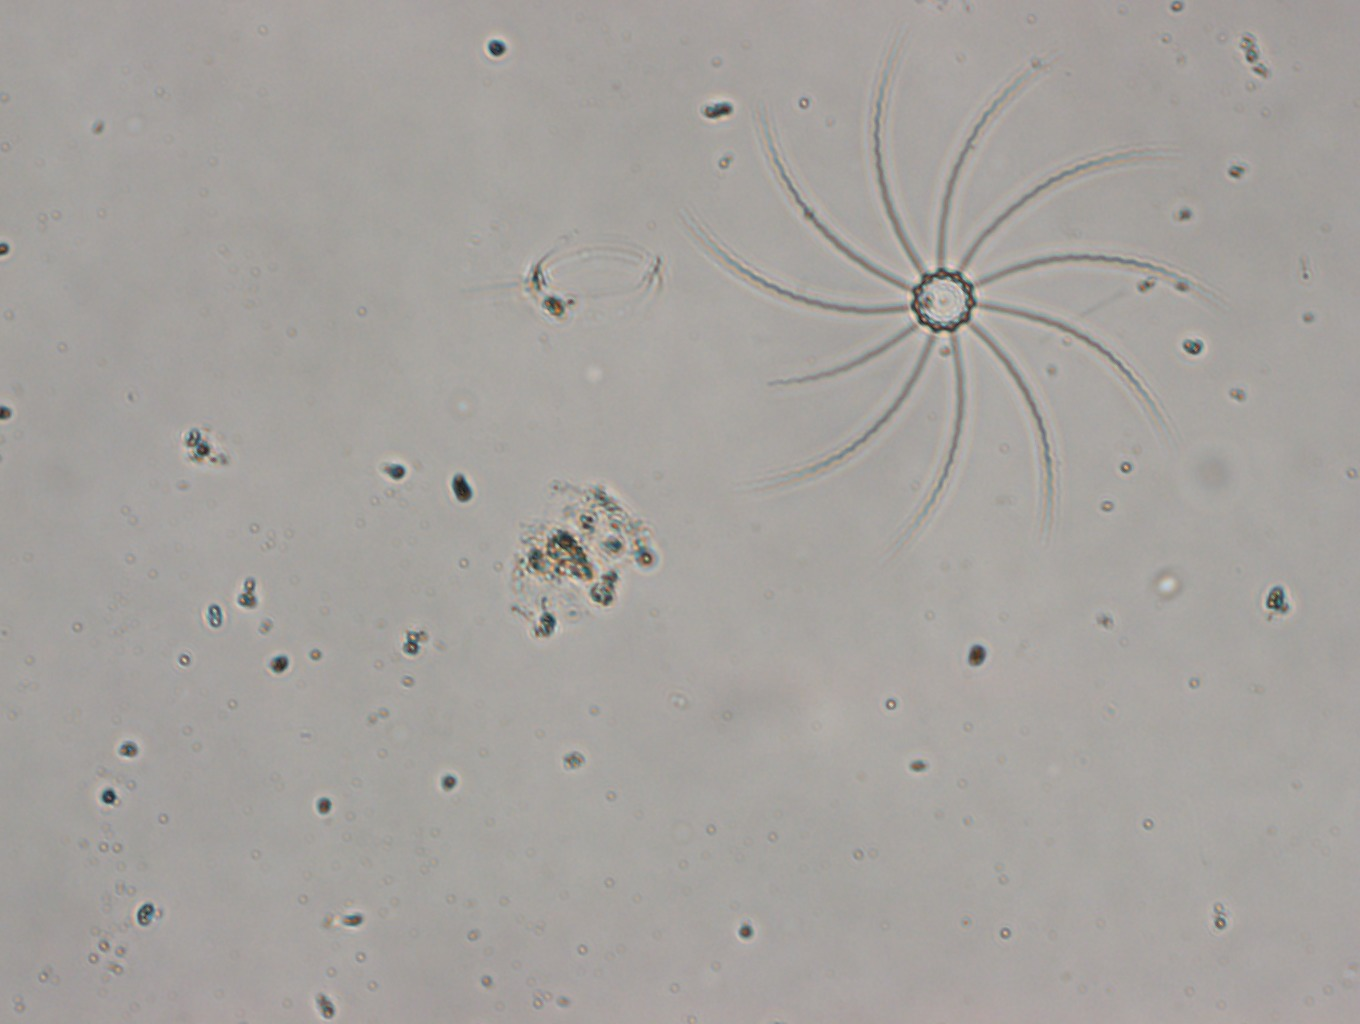bacteriastrum: (677, 35, 1216, 553)
chaetoceros: (447, 236, 669, 330)
